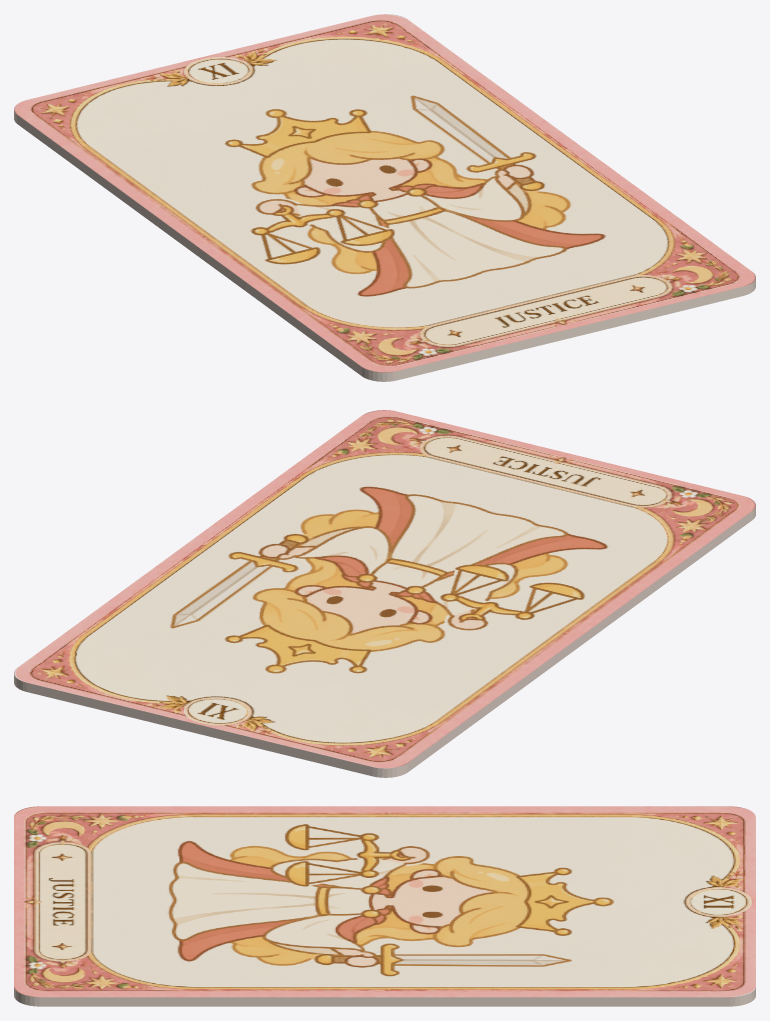
File: justice.fbx
3 renders of one model, top to bottom at view 1: azimuth 30°, elevation 25°; view 2: azimuth 150°, elevation 25°; view 3: azimuth 270°, elevation 25°, orthographic.
Parts seen in each view (by area): view 1: justice; view 2: justice; view 3: justice.
Part boxes in pixels (x1,y1,x2,y2): justice: (14, 14, 755, 381); justice: (14, 410, 755, 777); justice: (14, 806, 755, 1006).
Size of the model in its own units: 7 by 0.16 by 11.5.
3 materials, 2 textured.
